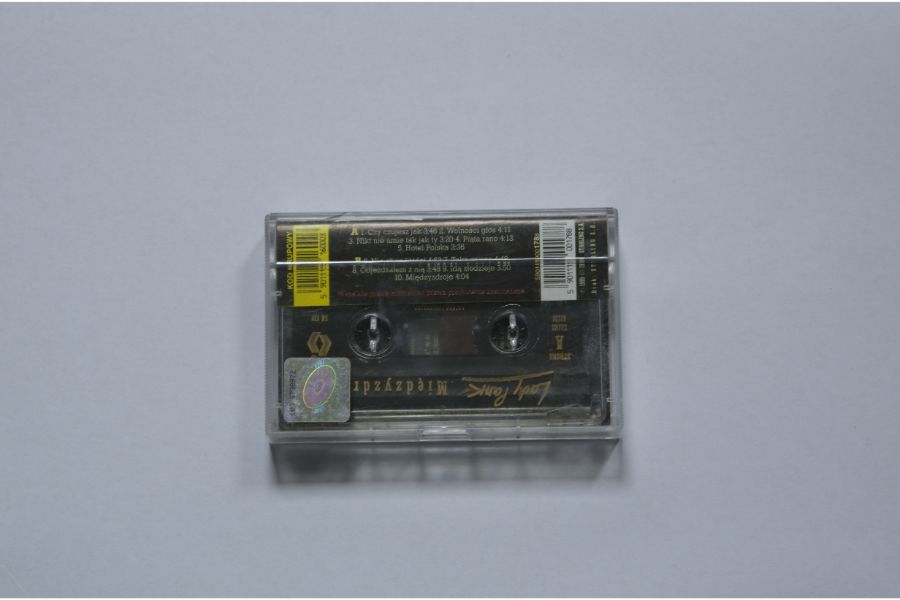album: (264, 206, 626, 445)
